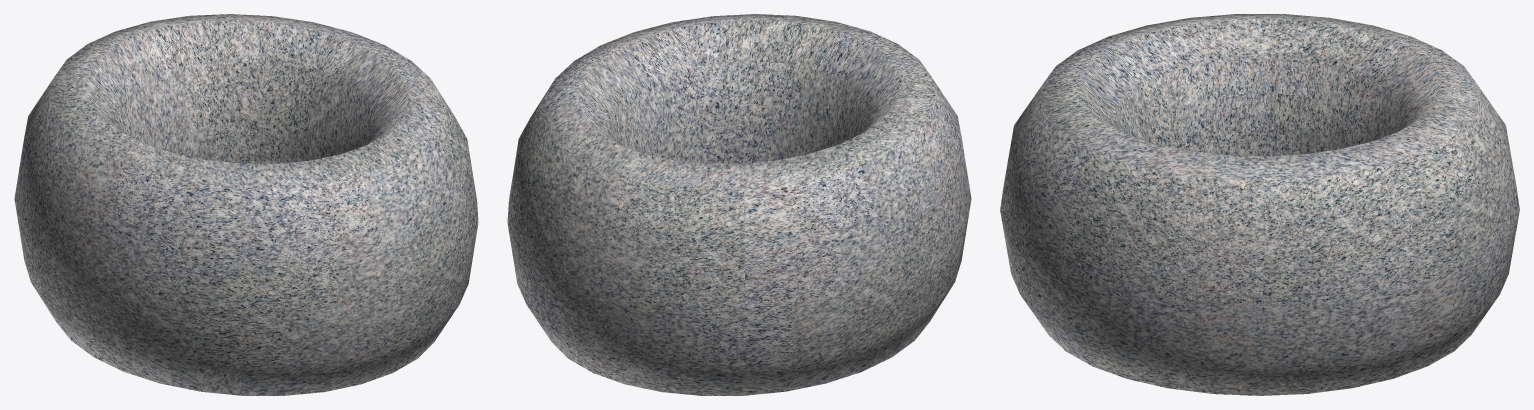
The model's file is fenceStone.fbx.
The picture shows the model from 3 angles, left to right: view 1: azimuth 30°, elevation 25°; view 2: azimuth 150°, elevation 25°; view 3: azimuth 270°, elevation 25°; orthographic projection. The views are drawn at different scales.
Visible parts, largest first — view 1: Torus; view 2: Torus; view 3: Torus.
Part boxes in pixels (bbox=[...]): Torus: bbox=[14, 14, 478, 395]; Torus: bbox=[507, 14, 971, 395]; Torus: bbox=[1000, 14, 1519, 395].
Size of the model in its own units: 668 by 370 by 744.
